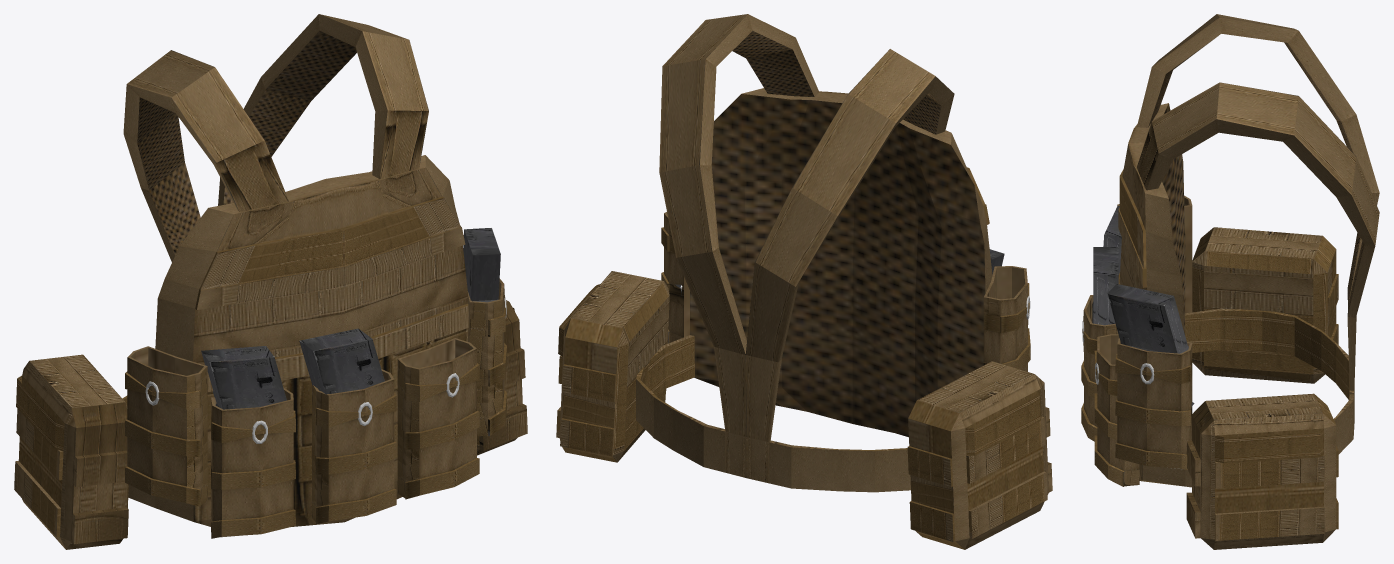
The picture shows the model from 3 angles, left to right: view 1: azimuth 30°, elevation 25°; view 2: azimuth 150°, elevation 25°; view 3: azimuth 270°, elevation 25°; orthographic projection. The views are drawn at different scales.
Visible parts, largest first — view 1: razgryzka, ammo2, ammo1, ammo3; view 2: razgryzka; view 3: razgryzka, ammo3, ammo1, ammo2.
Part boxes in pixels (x1,y1,x2,y2): razgryzka: [14, 14, 527, 549]; ammo2: [201, 346, 286, 409]; ammo1: [299, 328, 384, 394]; ammo3: [463, 227, 500, 302]; razgryzka: [556, 14, 1052, 549]; razgryzka: [1081, 14, 1379, 549]; ammo3: [1107, 284, 1194, 411]; ammo1: [1092, 247, 1118, 325]; ammo2: [1103, 206, 1121, 274].
Size of the model in its own units: 526 by 481 by 322.
